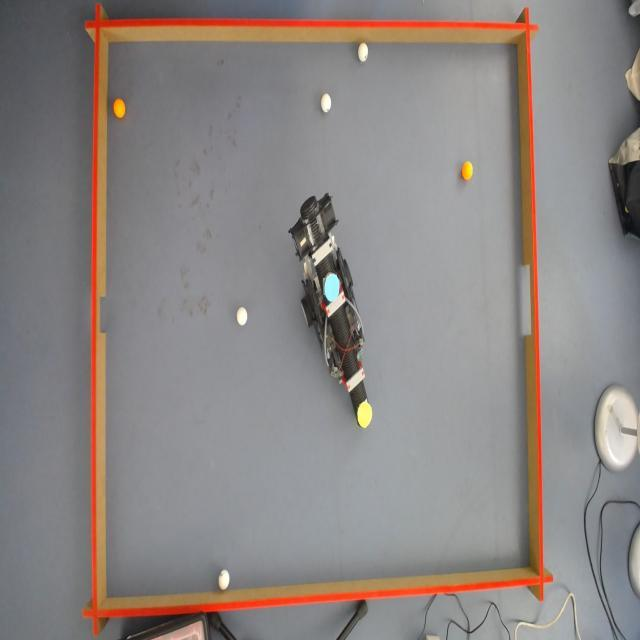orange: (112, 98, 126, 118)
robot: (293, 182, 377, 428)
robot-front: (359, 402, 374, 428)
robot-rear: (321, 271, 342, 304)
white: (319, 92, 332, 114), (355, 42, 368, 64), (236, 306, 249, 326), (220, 570, 230, 592), (462, 163, 473, 180)
